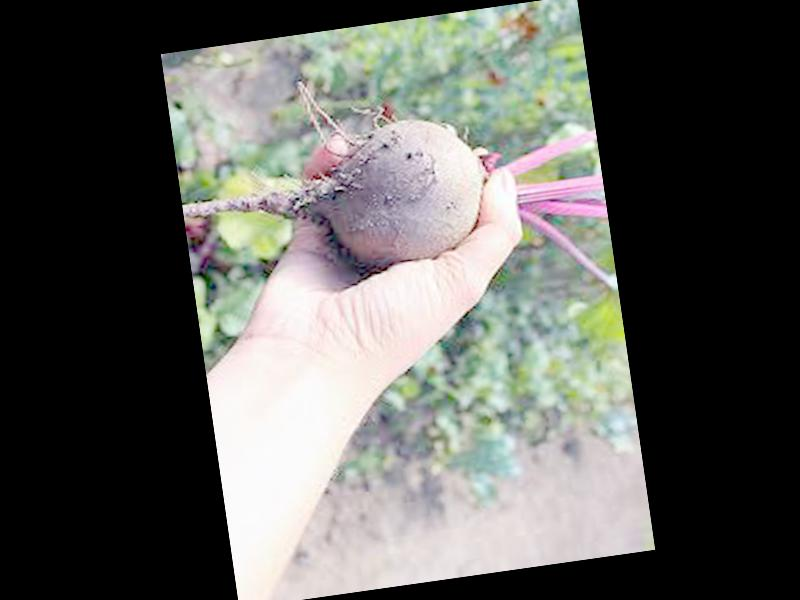Beet: (166, 39, 615, 350)
